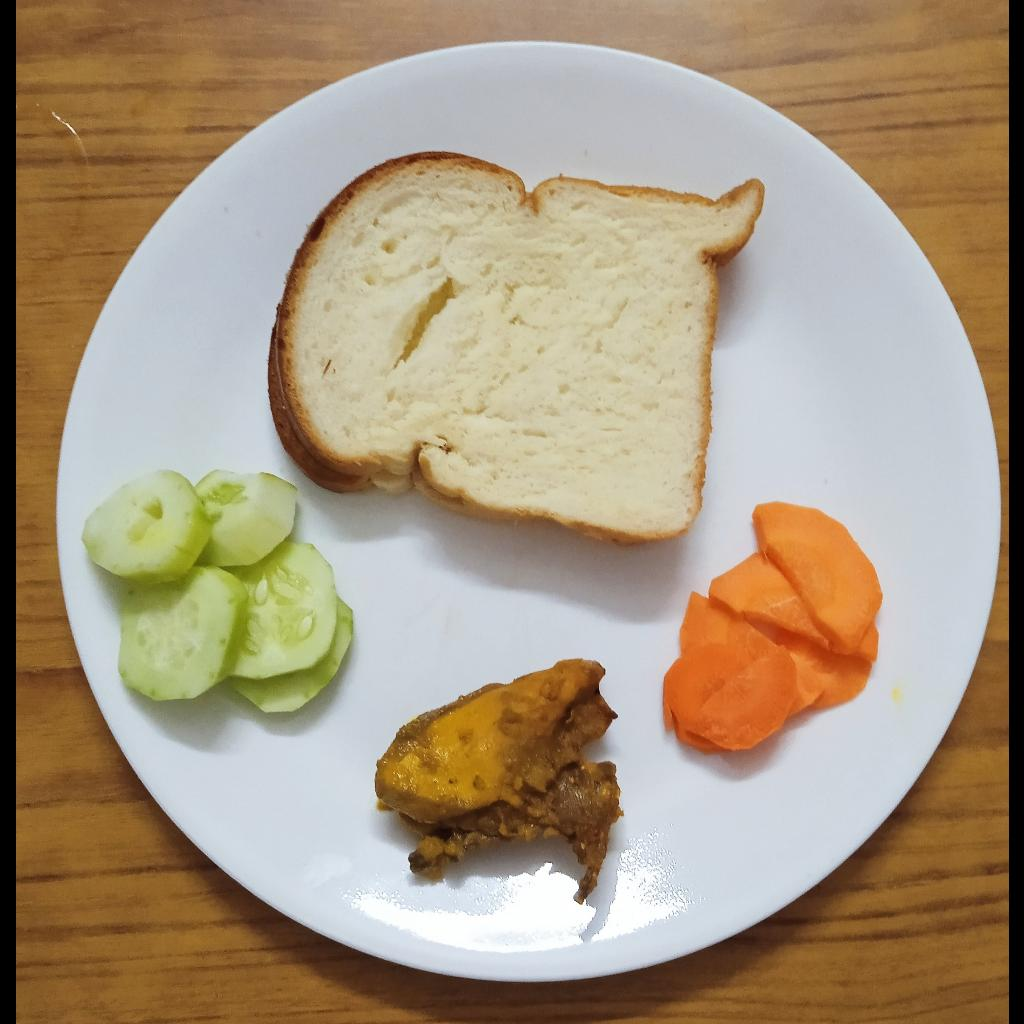bread: (269, 147, 762, 551)
carrot: (655, 506, 889, 755)
chicken: (371, 653, 620, 906)
cucumber: (79, 467, 353, 715)
